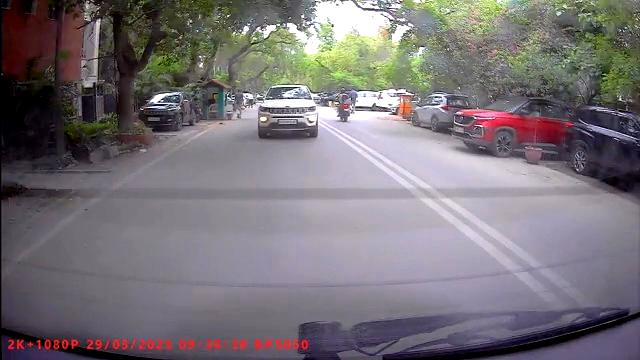motorcycle_with_helmet: (334, 85, 356, 123)
